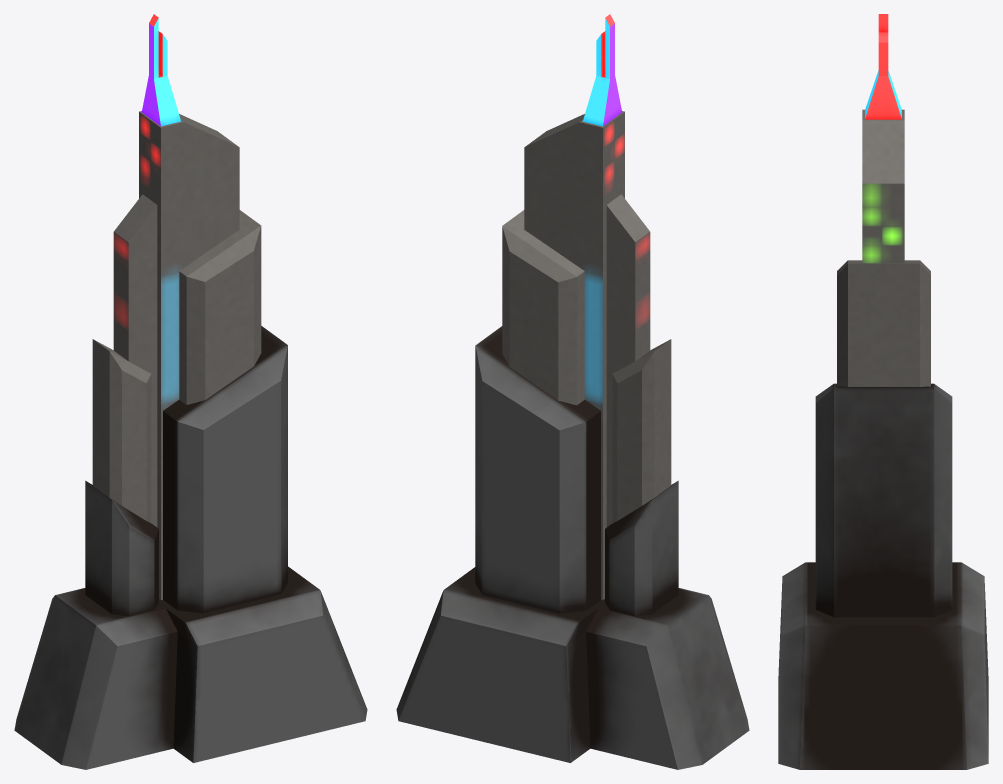
The model's file is SM_BackgroundBuilding_009.fbx.
3 views of the same model, side by side, from view 1: azimuth 30°, elevation 25°; view 2: azimuth 150°, elevation 25°; view 3: azimuth 270°, elevation 25° (orthographic). The views are drawn at different scales.
Parts seen in each view (by area): view 1: SM_BackgroundBuilding_009; view 2: SM_BackgroundBuilding_009; view 3: SM_BackgroundBuilding_009.
Part boxes in pixels (x1,y1,x2,y2): SM_BackgroundBuilding_009: (14,14,367,769); SM_BackgroundBuilding_009: (396,14,749,769); SM_BackgroundBuilding_009: (778,14,988,769).
Bounding box in the file's own units: 1484 × 982 × 3484.
1 material, 1 textured.
